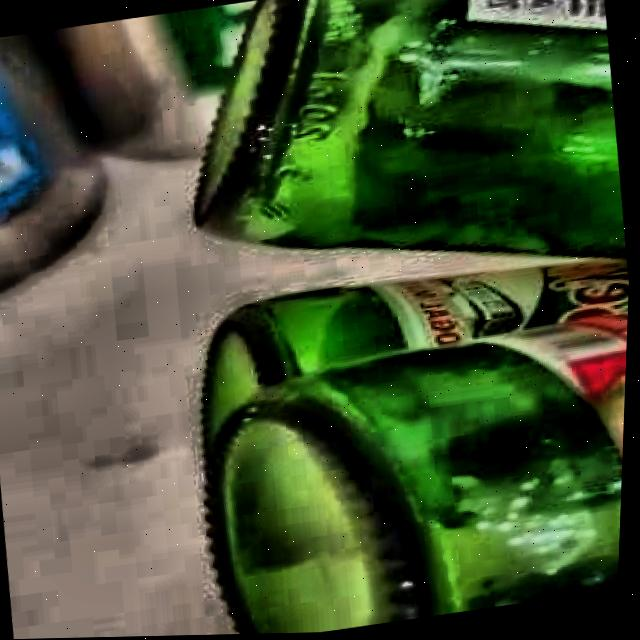glass: (203, 258, 631, 635), (194, 0, 628, 258)
